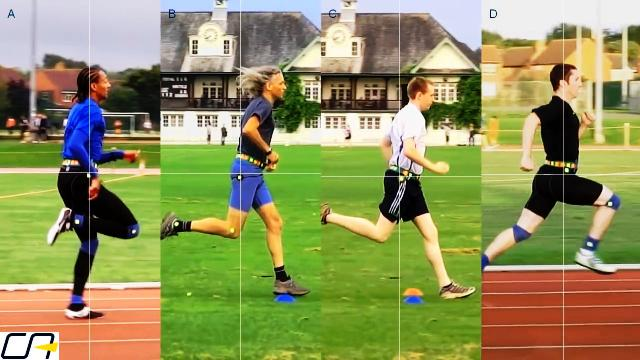berlari: (161, 60, 315, 296), (326, 72, 478, 308), (487, 56, 627, 296), (41, 61, 140, 322)
